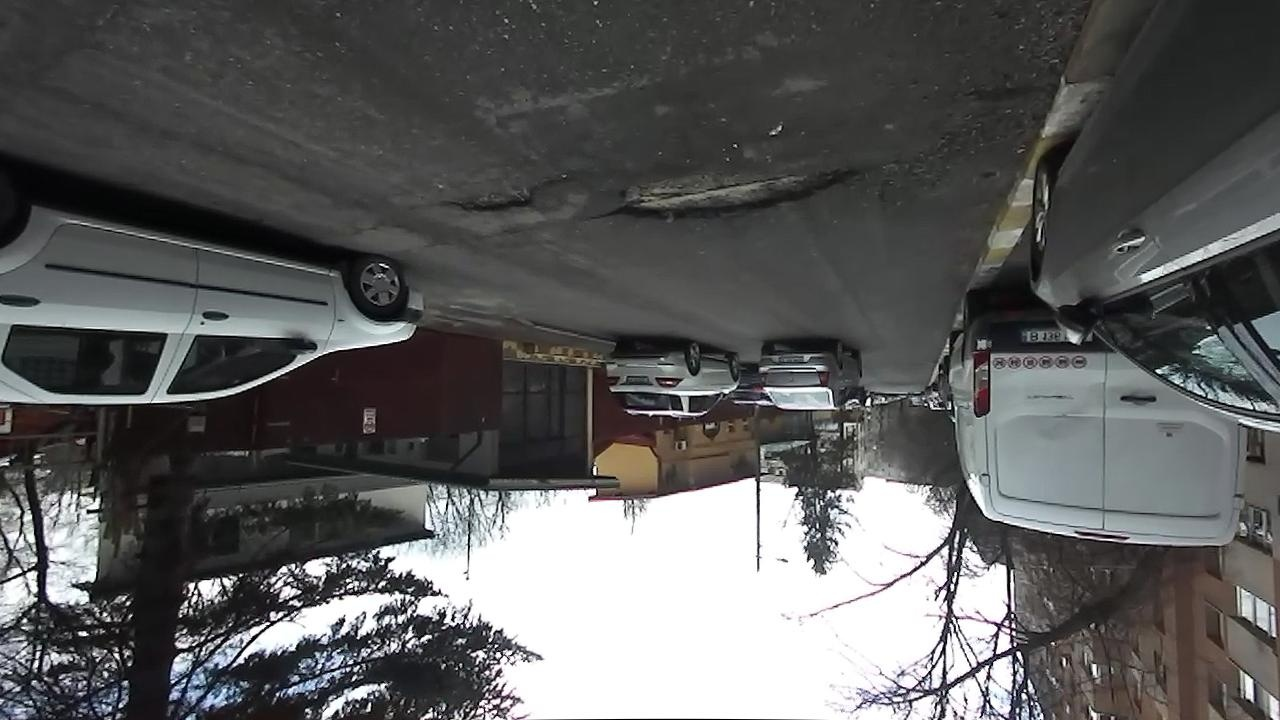pothole: (585, 158, 866, 226), (440, 170, 572, 217)
